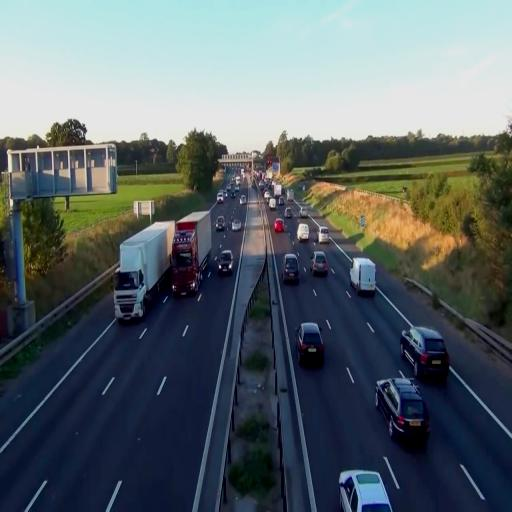vehicle: (112, 220, 176, 321), (171, 208, 212, 299), (375, 374, 430, 440), (400, 325, 450, 379), (338, 469, 392, 512), (297, 322, 324, 366), (349, 256, 376, 298), (350, 257, 376, 298), (282, 252, 300, 284), (312, 249, 328, 277), (217, 248, 233, 276), (296, 219, 310, 243), (215, 215, 226, 232)
